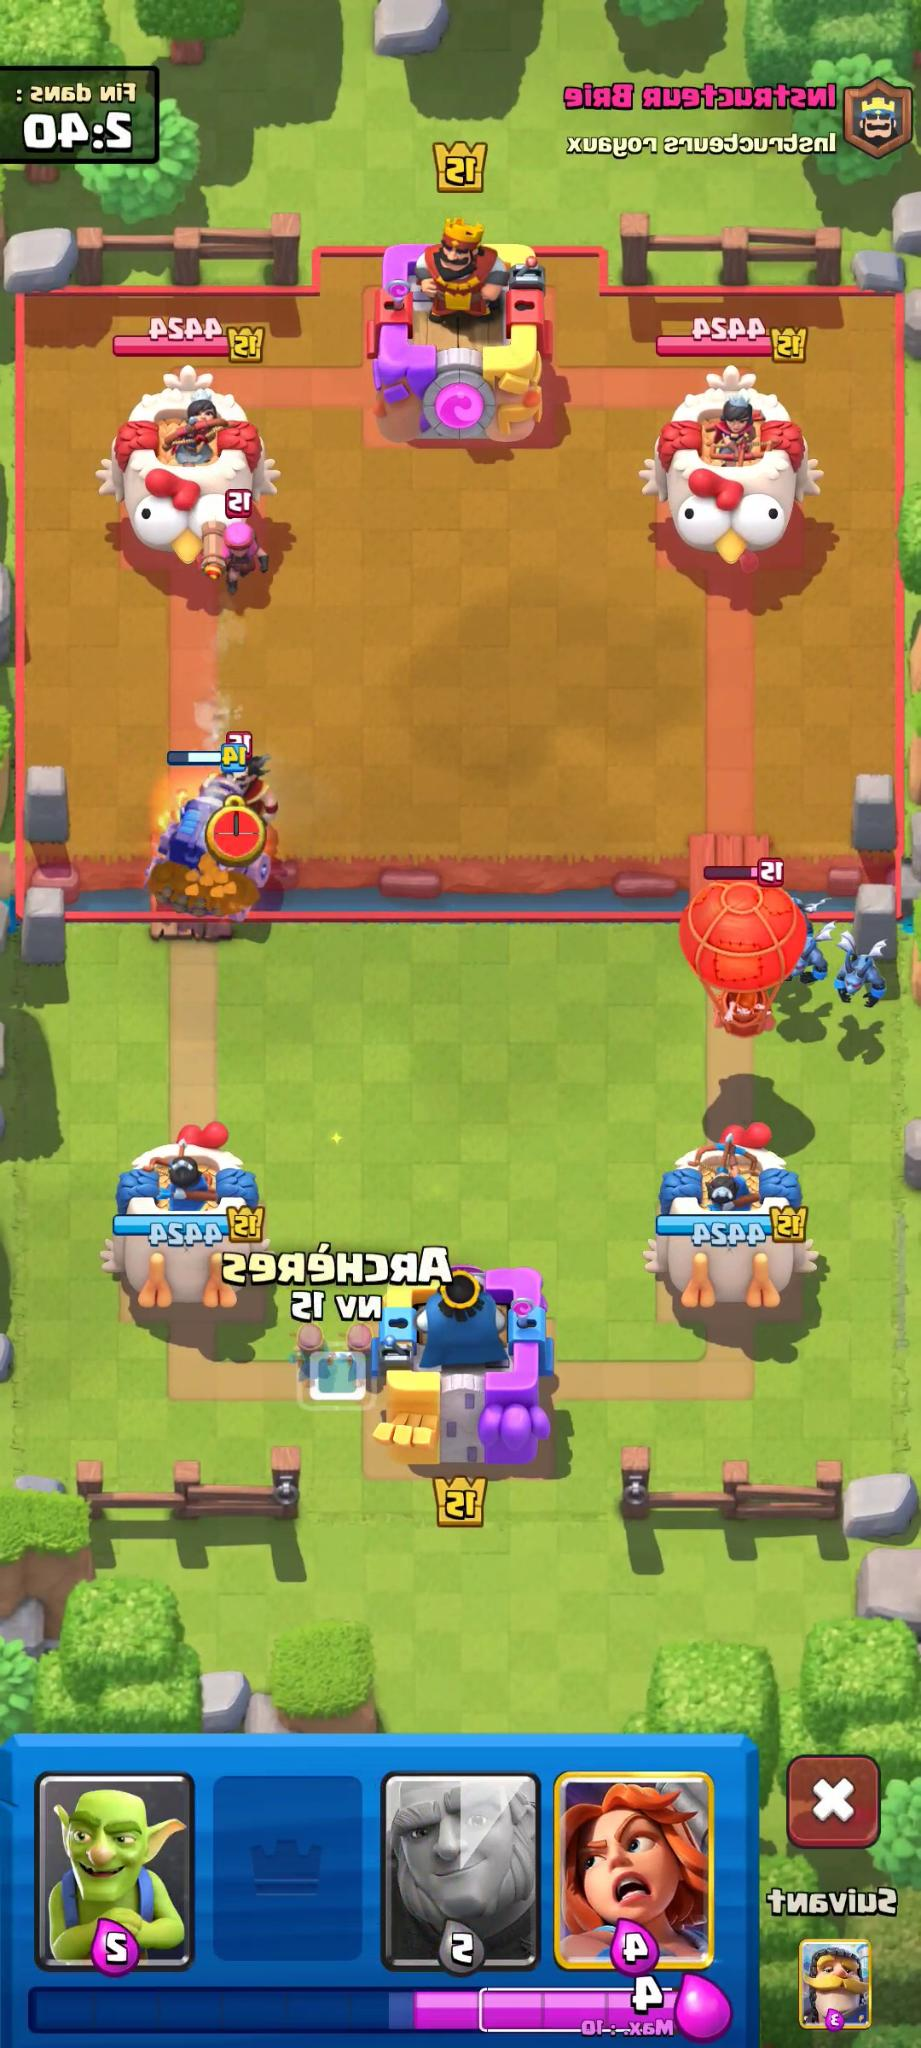archere: (334, 1315, 387, 1401), (285, 1317, 329, 1388)
gargouille: (827, 943, 879, 1011), (776, 925, 833, 984), (764, 888, 824, 935)
zappy: (144, 758, 268, 927)
